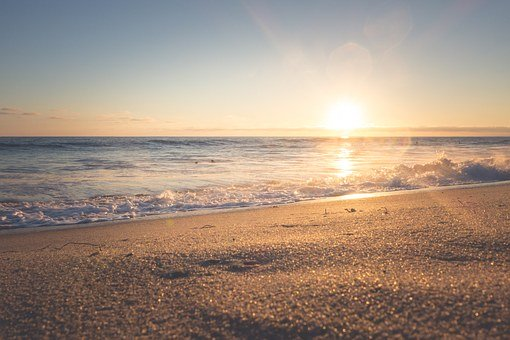beach: (3, 135, 507, 337)
sky: (4, 1, 510, 131)
